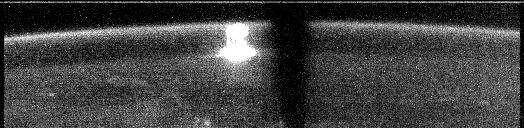positive: (223, 21, 251, 46)
